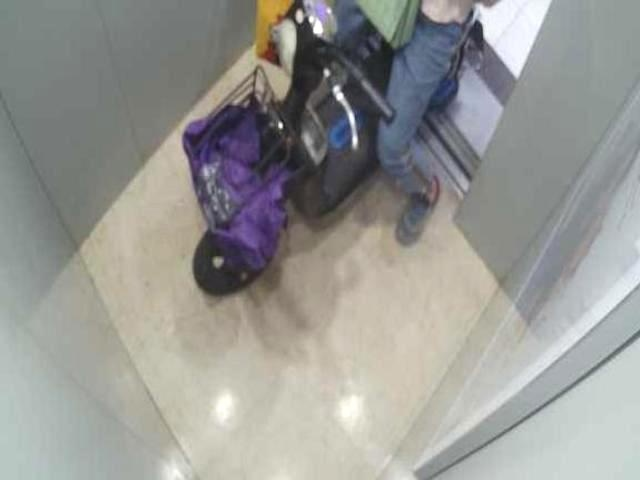electromobile: (170, 4, 399, 307)
